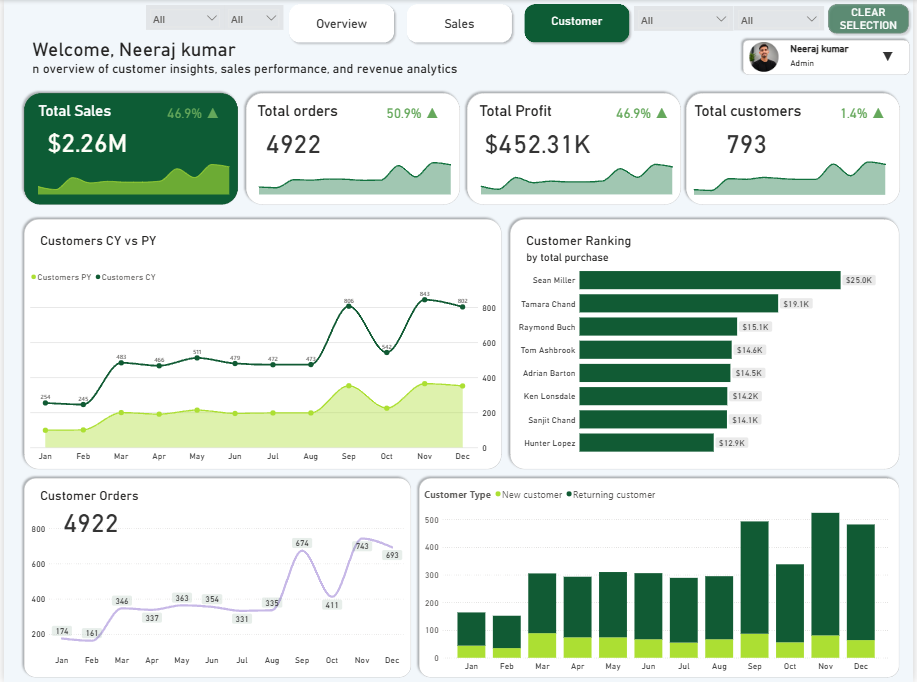

What the dashboard file says about the page in this screenshot:
{"tool":"powerbi","page":{"name":"Customer","canvas":[2048,1536],"ordinal":2},"visuals":[{"type":"slicer","fields":{"Values":["DateTable.Year"]},"box":[496,12,134,56],"z":0},{"type":"shape","box":[1654.6,80,393.4,96.6],"z":0,"group":"g5"},{"type":"group","id":"g1","title":"Total sales KPI","box":[35,200,500,270],"z":0,"group":"g6"},{"type":"shape","box":[35,200,500,270],"z":0,"group":"g1"},{"type":"shape","box":[535,200,500,270],"z":0,"group":"g2"},{"type":"shape","box":[1032.5,200,500,270],"z":0,"group":"g3"},{"type":"shape","box":[1525,200,500,270],"z":0,"group":"g4"},{"type":"shape","box":[35,485,1094,582],"z":0,"group":"g7"},{"type":"shape","box":[1130,485,895,582],"z":0,"group":"g10"},{"type":"shape","box":[35,1067.5,890,467.5],"z":0,"group":"g8"},{"type":"shape","box":[925,1067.5,1100,467.5],"z":0,"group":"g9"},{"type":"slicer","fields":{"Values":["SuperstoreSales.Region"]},"box":[320,12,176,56],"z":1000},{"type":"image","box":[1672.3,94.3,76.2,66.5],"z":1000,"group":"g5"},{"type":"group","id":"g2","title":"Total orders KPI","box":[535,200,500,270],"z":1000,"group":"g6"},{"type":"card","title":"Total Sales","fields":{"Values":["SuperstoreSales.Total Sales"]},"box":[52.5,272.5,267.5,85],"z":1000,"group":"g1"},{"type":"areaChart","fields":{"Category":["DateTable.Month"],"Y":["SuperstoreSales.Total Orders"]},"box":[552.5,347.5,472.5,97.5],"z":1000,"group":"g2"},{"type":"areaChart","fields":{"Category":["DateTable.Month"],"Y":["SuperstoreSales.Total Profit"]},"box":[1052.5,347.5,472,97],"z":1000,"group":"g3"},{"type":"areaChart","fields":{"Category":["DateTable.Month"],"Y":["SuperstoreSales.Total Customers"]},"box":[1532.5,347.5,472,97],"z":1000,"group":"g4"},{"type":"barChart","fields":{"Category":["SuperstoreSales.Customer_name"],"Y":["SuperstoreSales.Total Sales"]},"box":[1152.5,577.5,852.5,467.5],"z":1000,"group":"g10"},{"type":"stackedAreaChart","fields":{"Category":["DateTable.Month"],"Y":["SuperstoreSales.Customers PY","SuperstoreSales.Customers CY"]},"box":[52.5,600,1060,445],"z":1000,"group":"g7"},{"type":"columnChart","fields":{"Y":["SalesPerformance.Active customers"],"Category":["DateTable.Month"],"Series":["SalesPerformance.Customer Type"]},"box":[940,1087.5,1057.5,430],"z":1000,"group":"g9"},{"type":"lineChart","fields":{"Category":["DateTable.Month"],"Y":["SuperstoreSales.order count"]},"box":[55,1172.5,850,330],"z":1000,"group":"g8"},{"type":"slicer","fields":{"Values":["SuperstoreSales.Segment"]},"box":[1645,12.5,202.5,55],"z":2000},{"type":"textbox","box":[1764.5,91.1,180.8,38],"z":2000,"group":"g5"},{"type":"group","id":"g3","title":"Total Profit KPI","box":[1032.5,200,500,270],"z":2000,"group":"g6"},{"type":"card","title":"Total Sales","fields":{"Values":["SuperstoreSales.Total Orders"]},"box":[552.5,272.5,196,86],"z":2000,"group":"g2"},{"type":"card","title":"Total Sales","fields":{"Values":["SuperstoreSales.Total Profit"]},"box":[1062.5,272.5,277.5,86],"z":2000,"group":"g3"},{"type":"card","title":"Total Sales","fields":{"Values":["SuperstoreSales.Total Customers"]},"box":[1572.5,272.5,196,86],"z":2000,"group":"g4"},{"type":"areaChart","fields":{"Category":["DateTable.Month"],"Y":["SuperstoreSales.Total Sales"]},"box":[55,347.5,472,97.5],"z":2000,"group":"g1"},{"type":"textbox","box":[75,520,300,52],"z":2000,"group":"g7"},{"type":"textbox","box":[1170,520,252.5,52],"z":2000,"group":"g10"},{"type":"card","title":"Total Sales","fields":{"Values":["SuperstoreSales.order count"]},"box":[105,1137.5,180,67.5],"z":2000,"group":"g8"},{"type":"slicer","fields":{"Values":["SuperstoreSales.Category"]},"box":[1420,12.5,224,56],"z":3000},{"type":"textbox","box":[1764.5,125.9,106.3,36.4],"z":3000,"group":"g5"},{"type":"group","id":"g4","title":"Total customers KPI","box":[1525,200,500,270],"z":3000,"group":"g6"},{"type":"textbox","box":[70,225,190,56],"z":3000,"group":"g1"},{"type":"textbox","box":[565,225,198,56],"z":3000,"group":"g2"},{"type":"textbox","box":[1065,225,210,56],"z":3000,"group":"g3"},{"type":"textbox","box":[1547.5,225,300,56],"z":3000,"group":"g4"},{"type":"textbox","box":[1170,562,236,38],"z":3000,"group":"g10"},{"type":"textbox","box":[76,1094,252.5,52],"z":3000,"group":"g8"},{"type":"card","title":"Total Sales","fields":{"Values":["SuperstoreSales.YOY sales display"]},"box":[357.5,225,137,55],"z":4000,"group":"g1"},{"type":"card","title":"Total Sales","fields":{"Values":["SuperstoreSales.YOY orders display"]},"box":[850,225,137.5,55],"z":4000,"group":"g2"},{"type":"card","title":"Total Sales","fields":{"Values":["SuperstoreSales.YOY Profit display"]},"box":[1367.5,225,137,55],"z":4000,"group":"g3"},{"type":"card","title":"Total Sales","fields":{"Values":["SuperstoreSales.YOY customers display"]},"box":[1862.5,225,137.5,55],"z":4000,"group":"g4"},{"type":"pageNavigator","box":[632.5,0,787.5,105],"z":5000},{"type":"textbox","box":[57.5,80,500,67.5],"z":6000},{"type":"actionButton","box":[1959.4,102.2,62,44.3],"z":6000,"group":"g5"},{"type":"textbox","box":[57.8,132.2,987.8,52.2],"z":7000},{"type":"actionButton","box":[1847.5,0,200,85],"z":8000},{"type":"group","id":"g5","title":"Email Dropdown","box":[1628,80,420,145.7],"z":9000},{"type":"group","id":"g6","title":"KPI","box":[35,200,1990,270],"z":10000},{"type":"group","id":"g7","title":"customers CY PY","box":[35,485,1094,582],"z":11000},{"type":"group","id":"g8","title":"customer orders","box":[35,1067.5,890,467.5],"z":12000},{"type":"group","id":"g9","title":"customer retention","box":[925,1067.5,1100,467.5],"z":13000},{"type":"group","id":"g10","title":"customer ranking","box":[1130,485,895,582],"z":14000}]}

Visuals, with their boxes in screenshot pixels (x1, y1, x2, y2), scaled from the page's 2048x1536 canvas onto the 917x682 screenshot:
slicer - DateTable.Year: [222,5,282,30]
shape: [741,36,916,78]
"Total sales KPI" group: [16,89,240,209]
shape: [16,89,240,209]
shape: [240,89,463,209]
shape: [462,89,686,209]
shape: [683,89,907,209]
shape: [16,215,506,474]
shape: [506,215,907,474]
shape: [16,474,414,681]
shape: [414,474,907,681]
slicer - SuperstoreSales.Region: [143,5,222,30]
image: [749,42,783,71]
"Total orders KPI" group: [240,89,463,209]
"Total Sales" card: [24,121,143,159]
areaChart - DateTable.Month x SuperstoreSales.Total Orders: [247,154,459,198]
areaChart - DateTable.Month x SuperstoreSales.Total Profit: [471,154,683,197]
areaChart - DateTable.Month x SuperstoreSales.Total Customers: [686,154,898,197]
barChart - SuperstoreSales.Customer_name x SuperstoreSales.Total Sales: [516,256,898,464]
stackedAreaChart - DateTable.Month x SuperstoreSales.Customers PY: [24,266,498,464]
columnChart - SalesPerformance.Active customers x DateTable.Month: [421,483,894,674]
lineChart - DateTable.Month x SuperstoreSales.order count: [25,521,405,667]
slicer - SuperstoreSales.Segment: [737,6,827,30]
textbox: [790,40,871,57]
"Total Profit KPI" group: [462,89,686,209]
"Total Sales" card: [247,121,335,159]
"Total Sales" card: [476,121,600,159]
"Total Sales" card: [704,121,792,159]
areaChart - DateTable.Month x SuperstoreSales.Total Sales: [25,154,236,198]
textbox: [34,231,168,254]
textbox: [524,231,637,254]
"Total Sales" card: [47,505,128,535]
slicer - SuperstoreSales.Category: [636,6,736,30]
textbox: [790,56,838,72]
"Total customers KPI" group: [683,89,907,209]
textbox: [31,100,116,125]
textbox: [253,100,342,125]
textbox: [477,100,571,125]
textbox: [693,100,827,125]
textbox: [524,250,630,266]
textbox: [34,486,147,509]
"Total Sales" card: [160,100,221,124]
"Total Sales" card: [381,100,442,124]
"Total Sales" card: [612,100,674,124]
"Total Sales" card: [834,100,896,124]
pageNavigator: [283,0,636,47]
textbox: [26,36,250,65]
actionButton: [877,45,905,65]
textbox: [26,59,468,82]
actionButton: [827,0,916,38]
"Email Dropdown" group: [729,36,916,100]
"KPI" group: [16,89,907,209]
"customers CY PY" group: [16,215,506,474]
"customer orders" group: [16,474,414,681]
"customer retention" group: [414,474,907,681]
"customer ranking" group: [506,215,907,474]
